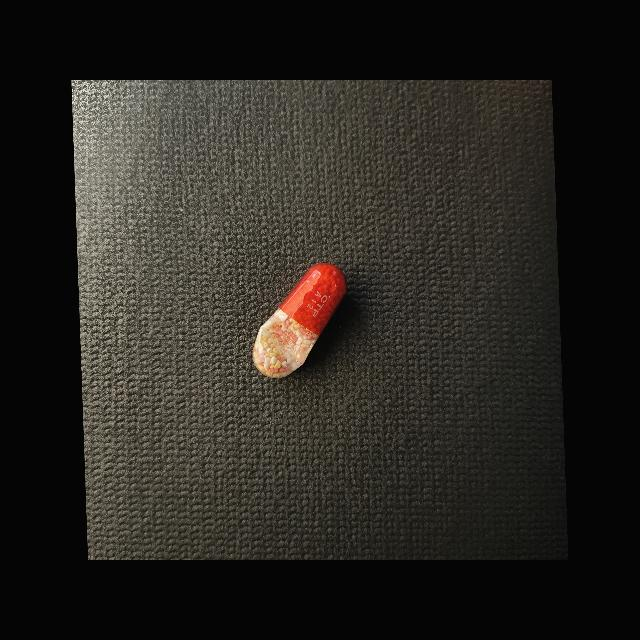Defective Capsule: (253, 263, 346, 378)
